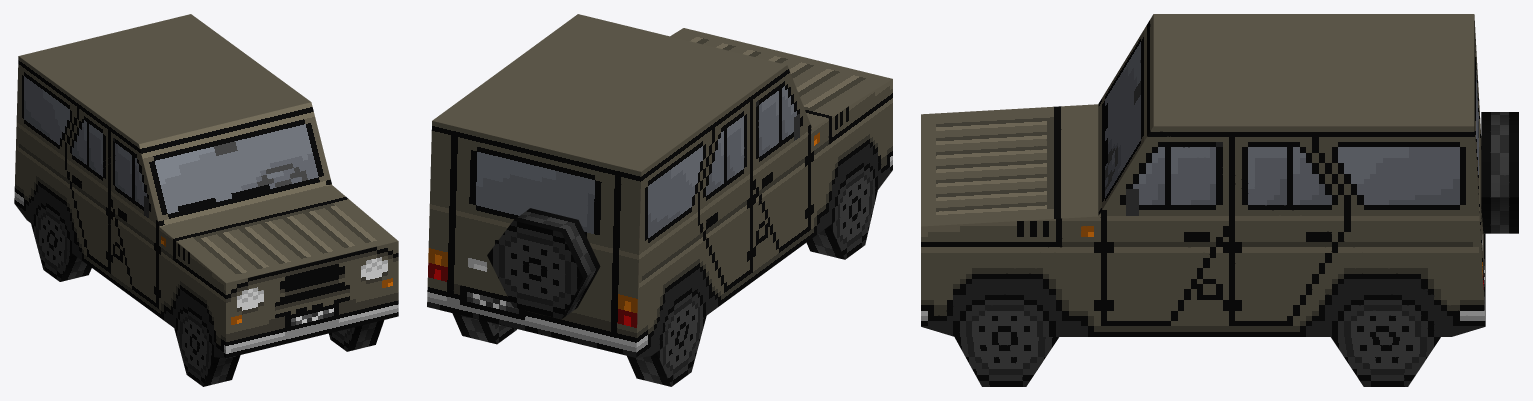
Rendered from sv-uaz469.glb.
3 renders of one model, left to right at view 1: azimuth 30°, elevation 25°; view 2: azimuth 150°, elevation 25°; view 3: azimuth 270°, elevation 25°, orthographic. The views are drawn at different scales.
Parts seen in each view (by area): view 1: sv-uaz469-mesh; view 2: sv-uaz469-mesh; view 3: sv-uaz469-mesh.
Part boxes in pixels (<box>): sv-uaz469-mesh: <box>14,14,398,386</box>; sv-uaz469-mesh: <box>427,14,892,386</box>; sv-uaz469-mesh: <box>921,14,1518,386</box>.
Bounding box in the file's own units: 24 × 26 × 54.01.
Materials: 1 (1 with a texture image).
